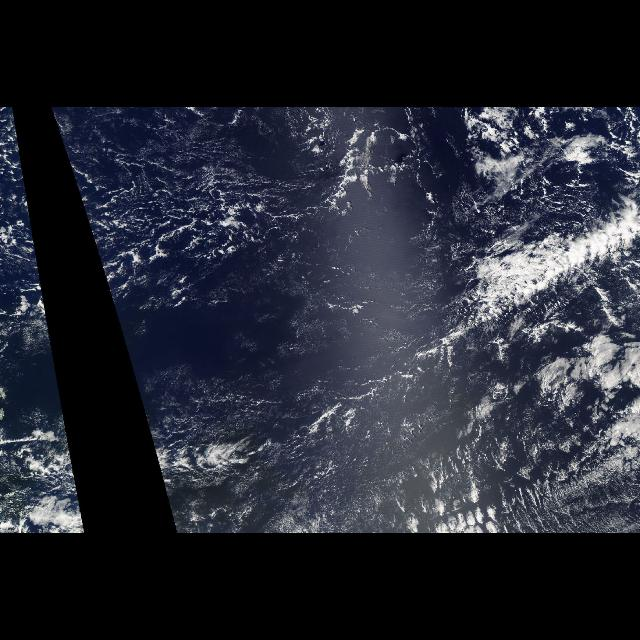Fish: (398, 206, 640, 364)
Gravel: (68, 108, 638, 394)
Sugar: (236, 398, 542, 507)
